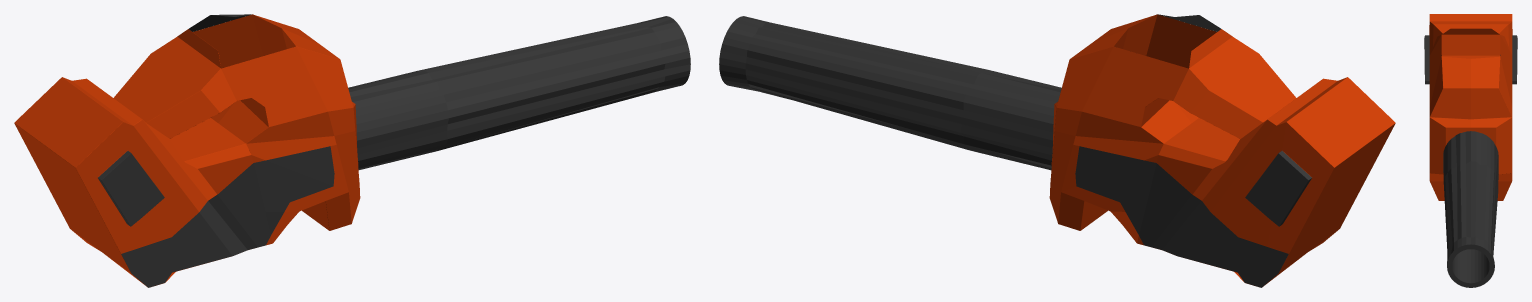
The model's file is Low Poly LeafBlower.glb.
3 views of the same model, side by side, from view 1: azimuth 30°, elevation 25°; view 2: azimuth 150°, elevation 25°; view 3: azimuth 270°, elevation 25° (orthographic). The views are drawn at different scales.
Visible parts, largest first — view 1: Combo; view 2: Combo; view 3: Combo.
Part boxes in pixels (box(x1,y1,x2,y2)): Combo: box(14, 14, 690, 287); Combo: box(719, 14, 1395, 287); Combo: box(1424, 14, 1517, 287).
Size of the model in its own units: 4.61 by 1.49 by 0.884.
